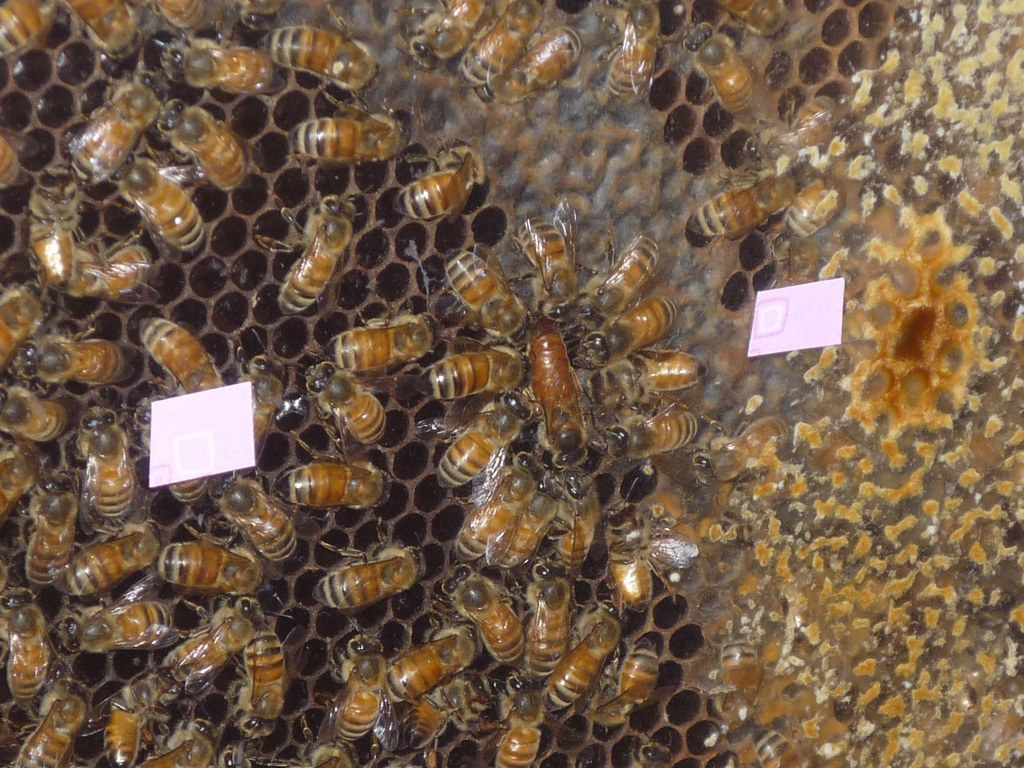bee: (0, 0, 1023, 767), (253, 194, 379, 309), (61, 72, 172, 192), (452, 444, 551, 567), (152, 597, 270, 699), (281, 359, 398, 457), (155, 515, 278, 604), (314, 626, 400, 750), (288, 87, 414, 167), (524, 318, 591, 467), (543, 609, 637, 715), (433, 392, 531, 489), (268, 7, 376, 95), (388, 670, 490, 760), (49, 575, 180, 644), (519, 553, 585, 685), (389, 622, 490, 708), (679, 173, 801, 243), (70, 403, 146, 515), (446, 245, 531, 345), (133, 311, 229, 398), (0, 682, 98, 767), (229, 324, 291, 457), (21, 170, 85, 298), (207, 469, 295, 562), (268, 444, 391, 510), (442, 565, 524, 664), (62, 528, 177, 597), (161, 102, 257, 184), (678, 22, 764, 113), (456, 0, 544, 87), (389, 144, 491, 219), (12, 322, 131, 384), (20, 465, 82, 582), (402, 346, 528, 403), (605, 515, 673, 620), (324, 310, 438, 372), (578, 233, 658, 319), (488, 473, 561, 567), (0, 583, 58, 700), (160, 32, 270, 93), (578, 298, 673, 368), (691, 424, 794, 488), (49, 247, 160, 305), (498, 28, 585, 102), (591, 354, 706, 408), (480, 670, 543, 767), (75, 689, 152, 767), (518, 213, 582, 305), (744, 97, 840, 158), (556, 471, 610, 575), (238, 629, 284, 740), (70, 0, 146, 65), (0, 370, 68, 442), (410, 0, 490, 60), (612, 7, 658, 104), (610, 416, 702, 463), (140, 712, 215, 767), (0, 284, 49, 364), (601, 634, 654, 703), (785, 177, 846, 236), (0, 0, 60, 57), (0, 444, 43, 522), (756, 715, 809, 767), (715, 0, 786, 37), (721, 630, 757, 695), (0, 127, 35, 192), (624, 726, 678, 767), (307, 736, 372, 767), (154, 0, 200, 32), (244, 0, 282, 33), (216, 740, 261, 767)
insect: (0, 0, 1023, 767)
